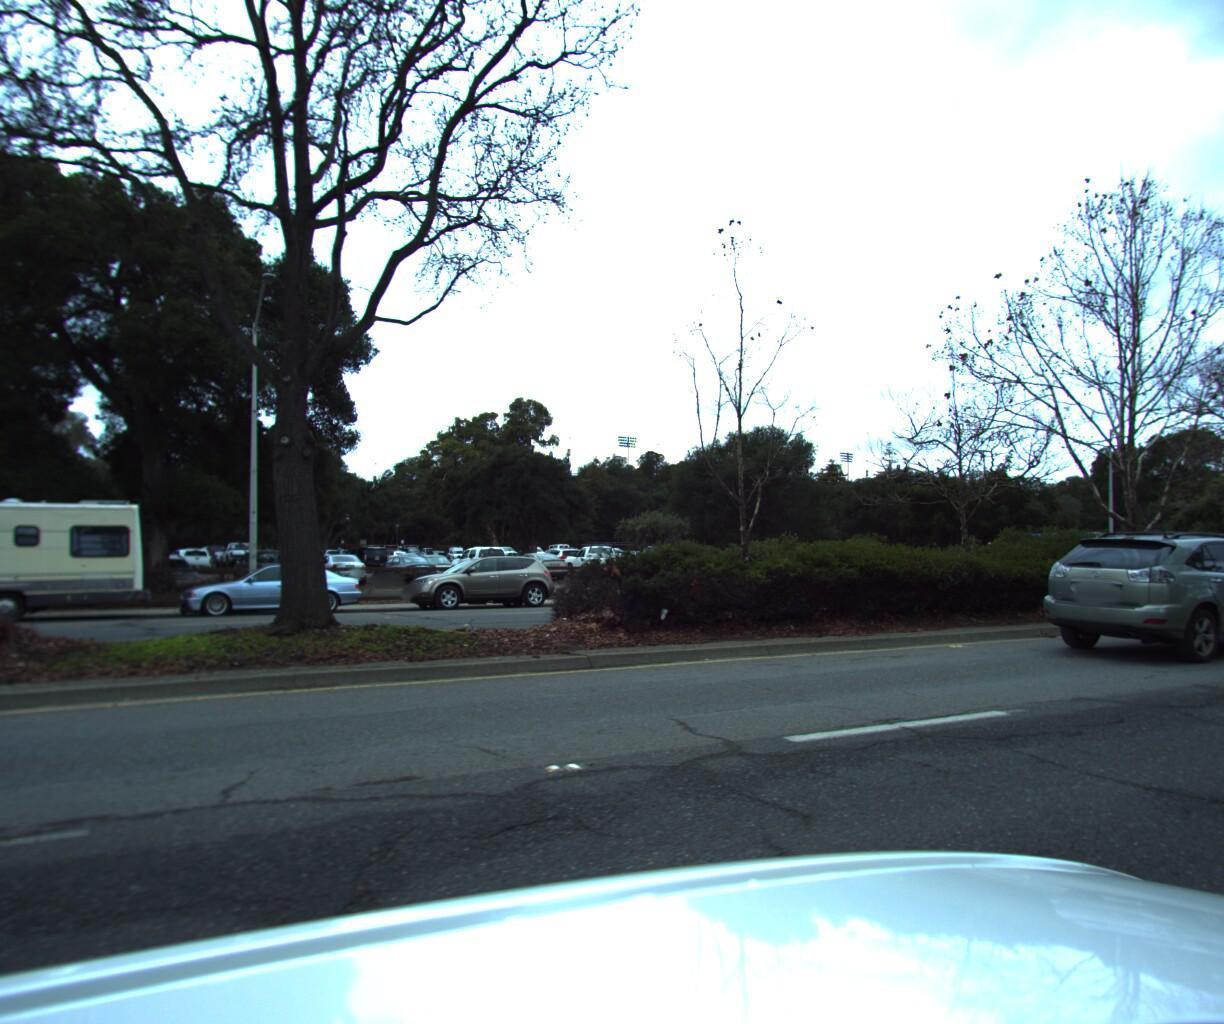car: (1018, 516, 1224, 662), (172, 559, 365, 619), (401, 550, 556, 610)
other_vehicle: (0, 475, 158, 633), (1008, 525, 1135, 567)
